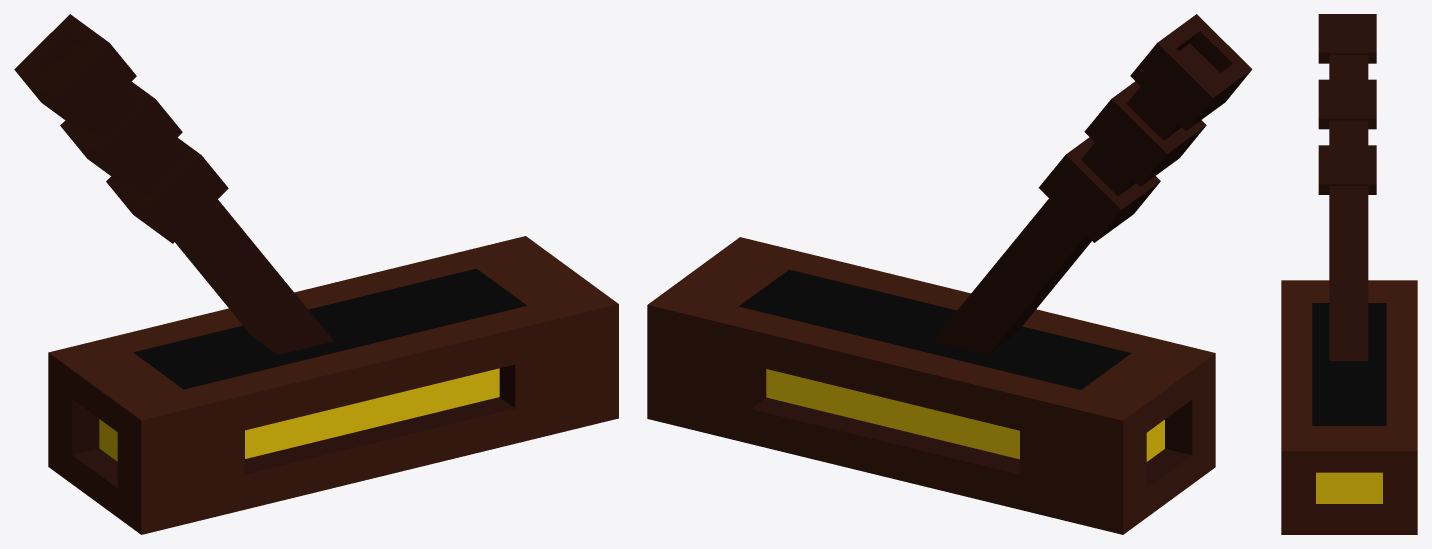
The model's file is Lever.fbx.
The picture shows the model from 3 angles, left to right: view 1: azimuth 30°, elevation 25°; view 2: azimuth 150°, elevation 25°; view 3: azimuth 270°, elevation 25°; orthographic projection. The views are drawn at different scales.
Parts seen in each view (by area): view 1: Cube, Cube.002, Cube.003; view 2: Cube, Cube.002, Cube.003; view 3: Cube, Cube.003, Cube.002.
Boxes of the visible parts, bbox=[...] form: Cube: bbox=[48, 236, 618, 534]; Cube.002: bbox=[14, 14, 228, 243]; Cube.003: bbox=[46, 43, 333, 354]; Cube: bbox=[647, 237, 1215, 534]; Cube.002: bbox=[1038, 14, 1252, 242]; Cube.003: bbox=[932, 43, 1219, 354]; Cube: bbox=[1281, 280, 1417, 534]; Cube.003: bbox=[1329, 54, 1368, 360]; Cube.002: bbox=[1318, 14, 1376, 194].
Bounding box in the file's own units: 749 × 630 × 223.
